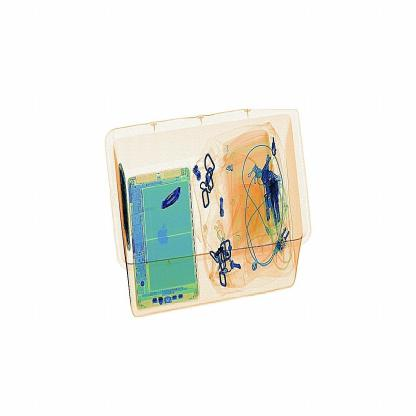knife: (156, 178, 188, 218)
